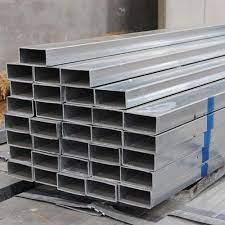pipe: (122, 111, 160, 137), (117, 183, 152, 210), (120, 164, 154, 190), (122, 130, 158, 154), (90, 106, 124, 131), (121, 148, 156, 172), (91, 124, 124, 149), (84, 178, 118, 202), (62, 84, 95, 108), (28, 116, 60, 140), (88, 143, 122, 165), (58, 66, 92, 88), (62, 103, 94, 126), (61, 121, 93, 144), (30, 133, 62, 156), (93, 89, 128, 110), (34, 98, 64, 122), (56, 172, 86, 196), (60, 137, 91, 160), (32, 82, 63, 104), (59, 155, 89, 177), (90, 160, 120, 182), (18, 46, 48, 68), (6, 95, 34, 118), (31, 150, 60, 172), (5, 62, 34, 84), (34, 65, 62, 87), (6, 128, 33, 150), (7, 160, 34, 182), (3, 114, 32, 134), (10, 79, 36, 100), (32, 166, 57, 187), (9, 144, 33, 165)
